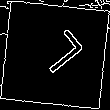L_SW: (26, 27, 84, 83)
